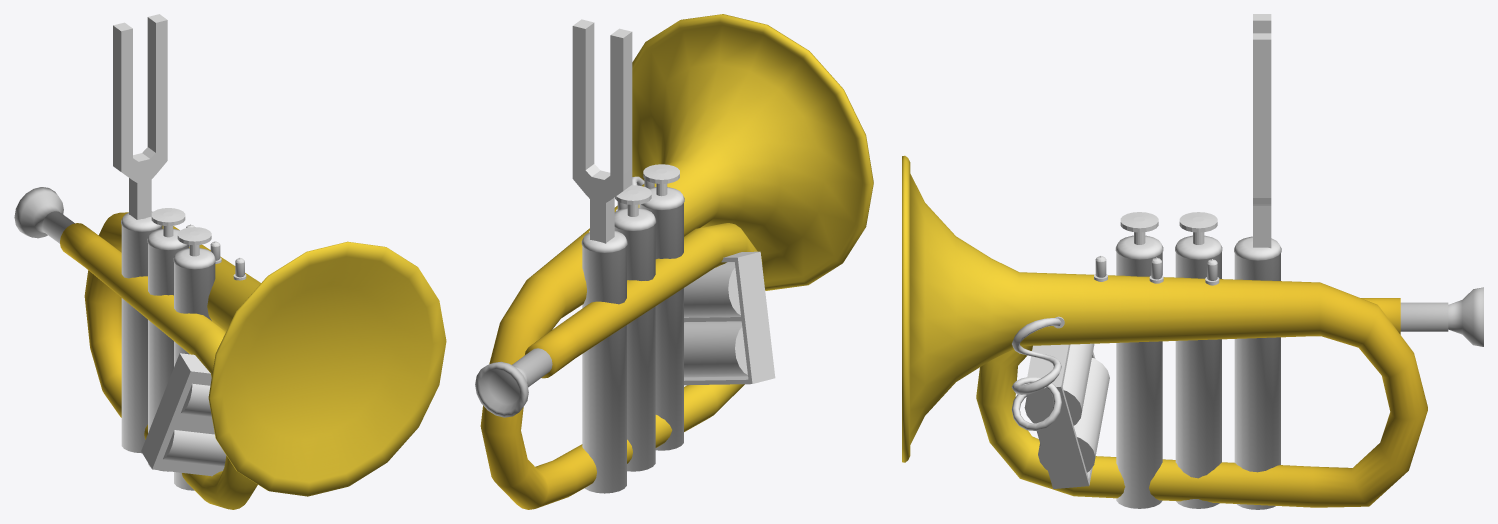
File: horn.FBX
The picture shows the model from 3 angles, left to right: view 1: azimuth 30°, elevation 25°; view 2: azimuth 150°, elevation 25°; view 3: azimuth 270°, elevation 25°; orthographic projection. The views are drawn at different scales.
Visible parts, largest first — view 1: Cylinder001, Dummy001, Cylinder004, Box001, Cylinder014, Cylinder015, Cylinder013, Box003, Cylinder011, Object004, Object003; view 2: Cylinder001, Cylinder004, Dummy001, Cylinder014, Cylinder015, Box001, Cylinder013, Cylinder011, Box003, Object004, Object003; view 3: Cylinder001, Cylinder015, Cylinder014, Cylinder004, Box001, Dummy001, Spring002, Cylinder013, Cylinder011, Object004, Object003, Box003.
Boxes of the visible parts, x1,y1,x2,y2 form: Cylinder001: [14, 187, 446, 509]; Dummy001: [113, 14, 167, 183]; Cylinder004: [121, 211, 162, 453]; Box001: [141, 353, 224, 476]; Cylinder014: [147, 229, 188, 471]; Cylinder015: [173, 248, 215, 490]; Cylinder013: [163, 430, 226, 466]; Box003: [129, 176, 151, 219]; Cylinder011: [181, 383, 211, 416]; Object004: [177, 227, 211, 256]; Object003: [151, 208, 185, 237]; Cylinder001: [475, 14, 873, 509]; Cylinder004: [581, 231, 627, 493]; Dummy001: [572, 19, 632, 203]; Cylinder014: [614, 208, 656, 471]; Cylinder015: [639, 187, 684, 450]; Box001: [684, 251, 775, 385]; Cylinder013: [684, 321, 747, 377]; Cylinder011: [684, 262, 740, 317]; Box003: [590, 197, 614, 243]; Object004: [643, 164, 679, 196]; Object003: [615, 185, 651, 216]; Cylinder001: [902, 155, 1483, 507]; Cylinder015: [1115, 235, 1163, 508]; Cylinder014: [1175, 235, 1222, 508]; Cylinder004: [1234, 236, 1281, 509]; Box001: [1026, 344, 1095, 488]; Dummy001: [1253, 14, 1271, 205]; Spring002: [1011, 318, 1061, 430]; Cylinder013: [1038, 358, 1109, 472]; Cylinder011: [1024, 343, 1094, 425]; Object004: [1120, 212, 1158, 244]; Object003: [1179, 212, 1217, 244]; Box003: [1253, 206, 1271, 248].
Bounding box in the file's own units: 22.69 × 38.44 × 42.83.
